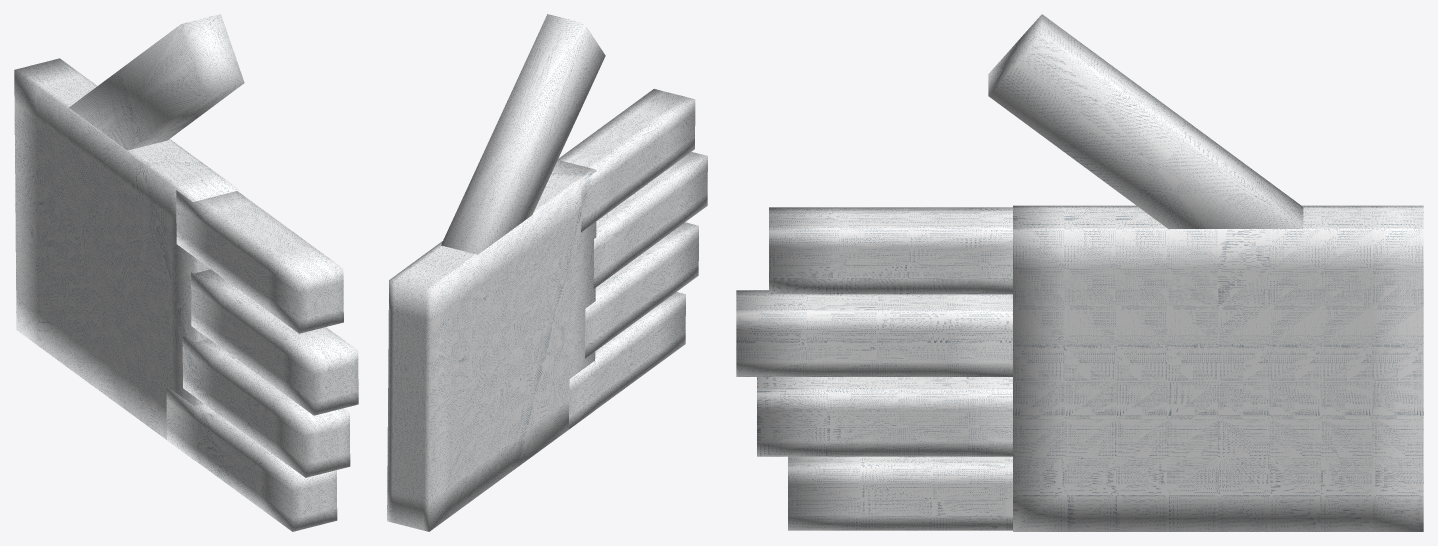
Rendered from Hand_Left_Openned.obj.
3 views of the same model, side by side, from view 1: azimuth 30°, elevation 25°; view 2: azimuth 150°, elevation 25°; view 3: azimuth 270°, elevation 25° (orthographic). The views are drawn at different scales.
Visible parts, largest first — view 1: Mesh1 G_3DGeom_1 cube_2 SimLab_2017_03_27_20_32_27_1 Model, Mesh5 G_3DGeom_5 cube4_1 SimLab_2017_03_27_20_32_27_1 Model, Mesh6 G_3DGeom_6 cube5_0 SimLab_2017_03_27_20_32_27_1 Model, Mesh4 G_3DGeom_4 cube3_1 SimLab_2017_03_27_20_32_27_1 Model, Mesh3 G_3DGeom_3 cube2_1 SimLab_2017_03_27_20_32_27_1 Model, Mesh2 G_3DGeom_2 cube1_1 SimLab_2017_03_27_20_32_27_1 Model; view 2: Mesh1 G_3DGeom_1 cube_2 SimLab_2017_03_27_20_32_27_1 Model, Mesh6 G_3DGeom_6 cube5_0 SimLab_2017_03_27_20_32_27_1 Model, Mesh5 G_3DGeom_5 cube4_1 SimLab_2017_03_27_20_32_27_1 Model, Mesh4 G_3DGeom_4 cube3_1 SimLab_2017_03_27_20_32_27_1 Model, Mesh3 G_3DGeom_3 cube2_1 SimLab_2017_03_27_20_32_27_1 Model, Mesh2 G_3DGeom_2 cube1_1 SimLab_2017_03_27_20_32_27_1 Model; view 3: Mesh1 G_3DGeom_1 cube_2 SimLab_2017_03_27_20_32_27_1 Model, Mesh6 G_3DGeom_6 cube5_0 SimLab_2017_03_27_20_32_27_1 Model, Mesh4 G_3DGeom_4 cube3_1 SimLab_2017_03_27_20_32_27_1 Model, Mesh5 G_3DGeom_5 cube4_1 SimLab_2017_03_27_20_32_27_1 Model, Mesh3 G_3DGeom_3 cube2_1 SimLab_2017_03_27_20_32_27_1 Model, Mesh2 G_3DGeom_2 cube1_1 SimLab_2017_03_27_20_32_27_1 Model.
Boxes of the visible parts, x1,y1,x2,y2 form: Mesh1 G_3DGeom_1 cube_2 SimLab_2017_03_27_20_32_27_1 Model: (14,58,238,459); Mesh5 G_3DGeom_5 cube4_1 SimLab_2017_03_27_20_32_27_1 Model: (176,190,343,333); Mesh6 G_3DGeom_6 cube5_0 SimLab_2017_03_27_20_32_27_1 Model: (69,14,244,150); Mesh4 G_3DGeom_4 cube3_1 SimLab_2017_03_27_20_32_27_1 Model: (191,269,358,415); Mesh3 G_3DGeom_3 cube2_1 SimLab_2017_03_27_20_32_27_1 Model: (182,334,350,477); Mesh2 G_3DGeom_2 cube1_1 SimLab_2017_03_27_20_32_27_1 Model: (166,386,337,531); Mesh1 G_3DGeom_1 cube_2 SimLab_2017_03_27_20_32_27_1 Model: (387,160,596,531); Mesh6 G_3DGeom_6 cube5_0 SimLab_2017_03_27_20_32_27_1 Model: (441,14,605,254); Mesh5 G_3DGeom_5 cube4_1 SimLab_2017_03_27_20_32_27_1 Model: (558,89,695,232); Mesh4 G_3DGeom_4 cube3_1 SimLab_2017_03_27_20_32_27_1 Model: (593,152,707,288); Mesh3 G_3DGeom_3 cube2_1 SimLab_2017_03_27_20_32_27_1 Model: (585,222,698,358); Mesh2 G_3DGeom_2 cube1_1 SimLab_2017_03_27_20_32_27_1 Model: (569,292,685,428); Mesh1 G_3DGeom_1 cube_2 SimLab_2017_03_27_20_32_27_1 Model: (1013,205,1423,531); Mesh6 G_3DGeom_6 cube5_0 SimLab_2017_03_27_20_32_27_1 Model: (988,14,1303,228); Mesh4 G_3DGeom_4 cube3_1 SimLab_2017_03_27_20_32_27_1 Model: (736,290,1012,376); Mesh5 G_3DGeom_5 cube4_1 SimLab_2017_03_27_20_32_27_1 Model: (769,207,1012,294); Mesh3 G_3DGeom_3 cube2_1 SimLab_2017_03_27_20_32_27_1 Model: (757,377,1012,456); Mesh2 G_3DGeom_2 cube1_1 SimLab_2017_03_27_20_32_27_1 Model: (788,456,1012,530).
Size of the model in its own units: 0.0175 by 0.1499 by 0.1883.
